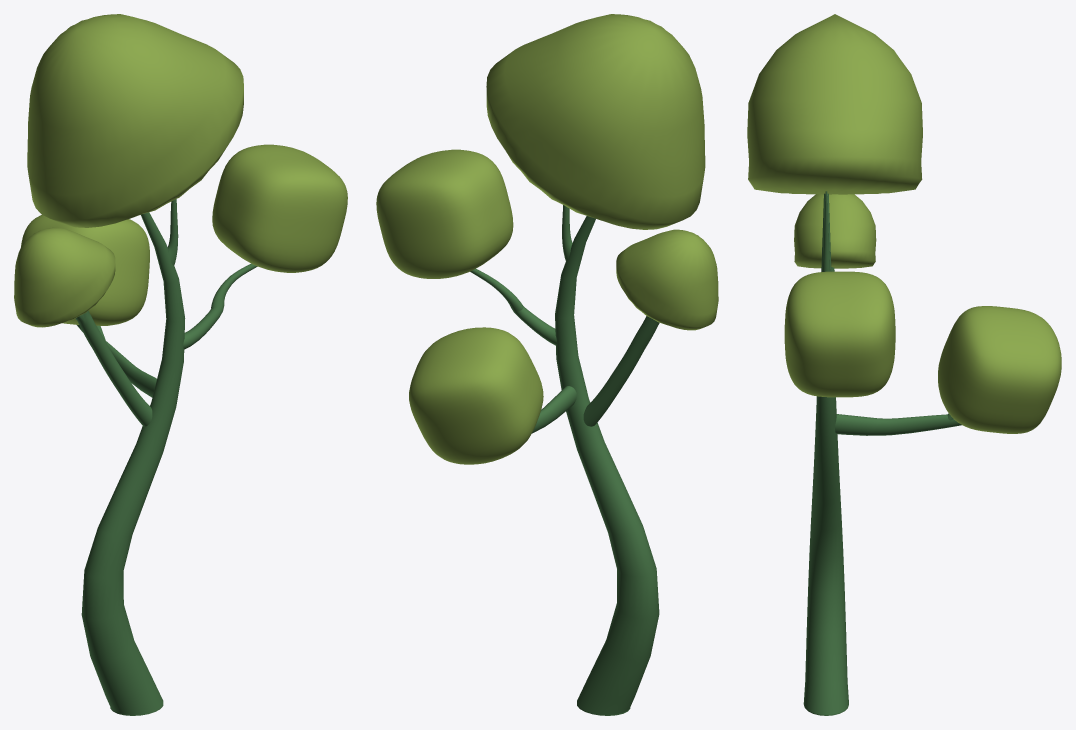
The model's file is tree2.fbx.
The picture shows the model from 3 angles, left to right: view 1: azimuth 30°, elevation 25°; view 2: azimuth 150°, elevation 25°; view 3: azimuth 270°, elevation 25°; orthographic projection. The views are drawn at different scales.
Visible parts, largest first — view 1: pCylinder22; view 2: pCylinder22; view 3: pCylinder22.
Part boxes in pixels (bbox=[...]): pCylinder22: bbox=[14, 14, 347, 715]; pCylinder22: bbox=[376, 14, 718, 715]; pCylinder22: bbox=[747, 14, 1061, 715].
Size of the model in its own units: 20.25 by 41.74 by 17.9.
